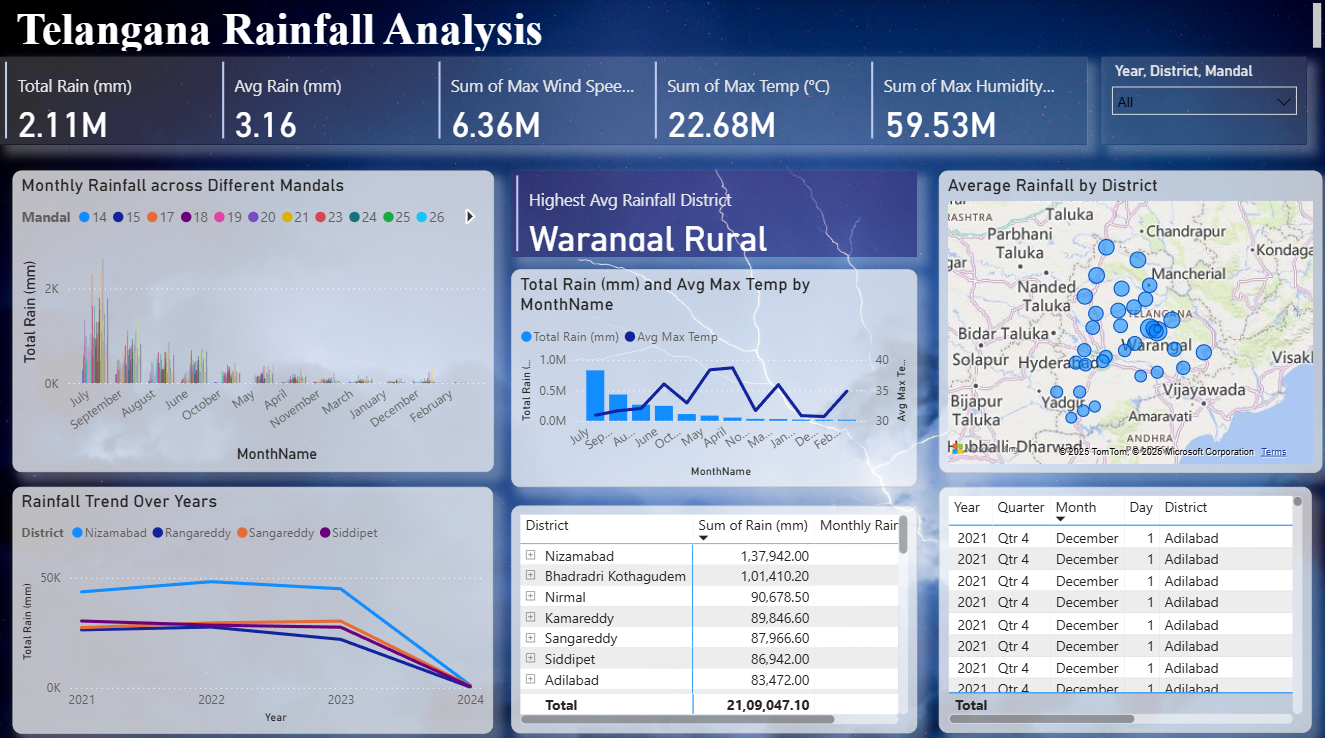

The page's visual inventory and layout, read from the dashboard file:
{"tool":"powerbi","page":{"name":"1 – Rainfall Analysis","canvas":[1280,720],"ordinal":0},"visuals":[{"type":"textbox","box":[0,0,1280,56],"z":0},{"type":"cardVisual","fields":{"Data":["Date.Total Rain (mm)","Date.Avg Rain (mm)","Sum(Weather Data.Max Wind Speed (Kmph))","Sum(Weather Data.Max Temp (°C))","Sum(Weather Data.Max Humidity (%))"]},"box":[0,56.2,1049.8,85],"z":1000},{"type":"map","title":"Average Rainfall by District","fields":{"Category":["Weather Data.District"],"Size":["Date.Avg Rain (mm)"]},"box":[905.8,167,370.1,292.3],"z":2000},{"type":"clusteredColumnChart","title":"Monthly Rainfall across Different Mandals","fields":{"Category":["Date.MonthName"],"Y":["Date.Total Rain (mm)"],"Series":["Weather Data.Mandal"]},"box":[11.5,167,465.1,290.9],"z":3000},{"type":"lineChart","title":"Rainfall Trend Over Years","fields":{"Category":["Date.Year"],"Y":["Date.Total Rain (mm)"],"Series":["Weather Data.District"]},"box":[12,472,464,238],"z":4000},{"type":"lineClusteredColumnComboChart","fields":{"Category":["Date.MonthName"],"Y":["Date.Total Rain (mm)"],"Y2":["Date.Avg Max Temp"]},"box":[493.9,262.1,391.7,210.2],"z":5000},{"type":"tableEx","fields":{"Values":["Date.Date.Variation.Date Hierarchy.Year","Date.Date.Variation.Date Hierarchy.Quarter","Date.Date.Variation.Date Hierarchy.Month","Date.Date.Variation.Date Hierarchy.Day","Weather Data.District","Weather Data.Mandal","Avg(Weather Data.Rain (mm))"]},"box":[905.8,472.3,360,237.6],"z":6000},{"type":"cardVisual","fields":{"Data":["Weather Data.Highest Avg Rainfall District"]},"box":[493.9,167,391.7,83.5],"z":7000},{"type":"pivotTable","fields":{"Rows":["Weather Data.District","Weather Data.Year","Weather Data.Month"],"Values":["Sum(Weather Data.Rain (mm))","Date.Monthly Rainfall %"]},"box":[494,490,392,220],"z":8000},{"type":"slicer","fields":{"Values":["Weather Data.Year","Weather Data.District","Weather Data.Mandal"]},"box":[1062.7,56.2,198.7,85],"z":9002}]}

Visuals, with their boxes in screenshot pixels (x1, y1, x2, y2), scaled from the page's 1280x720 canvas onto the 1325x738 screenshot:
textbox: [0,0,1324,57]
cardVisual - Date.Total Rain (mm) x Date.Avg Rain (mm): [0,58,1087,145]
"Average Rainfall by District" map: [938,171,1321,471]
"Monthly Rainfall across Different Mandals" clusteredColumnChart: [12,171,493,469]
"Rainfall Trend Over Years" lineChart: [12,484,493,728]
lineClusteredColumnComboChart - Date.MonthName x Date.Total Rain (mm): [511,269,917,484]
tableEx - Date.Date.Variation.Date Hierarchy.Year x Date.Date.Variation.Date Hierarchy.Quarter: [938,484,1310,728]
cardVisual - Weather Data.Highest Avg Rainfall District: [511,171,917,257]
pivotTable - Weather Data.District x Weather Data.Year: [511,502,917,728]
slicer - Weather Data.Year x Weather Data.District: [1100,58,1306,145]
